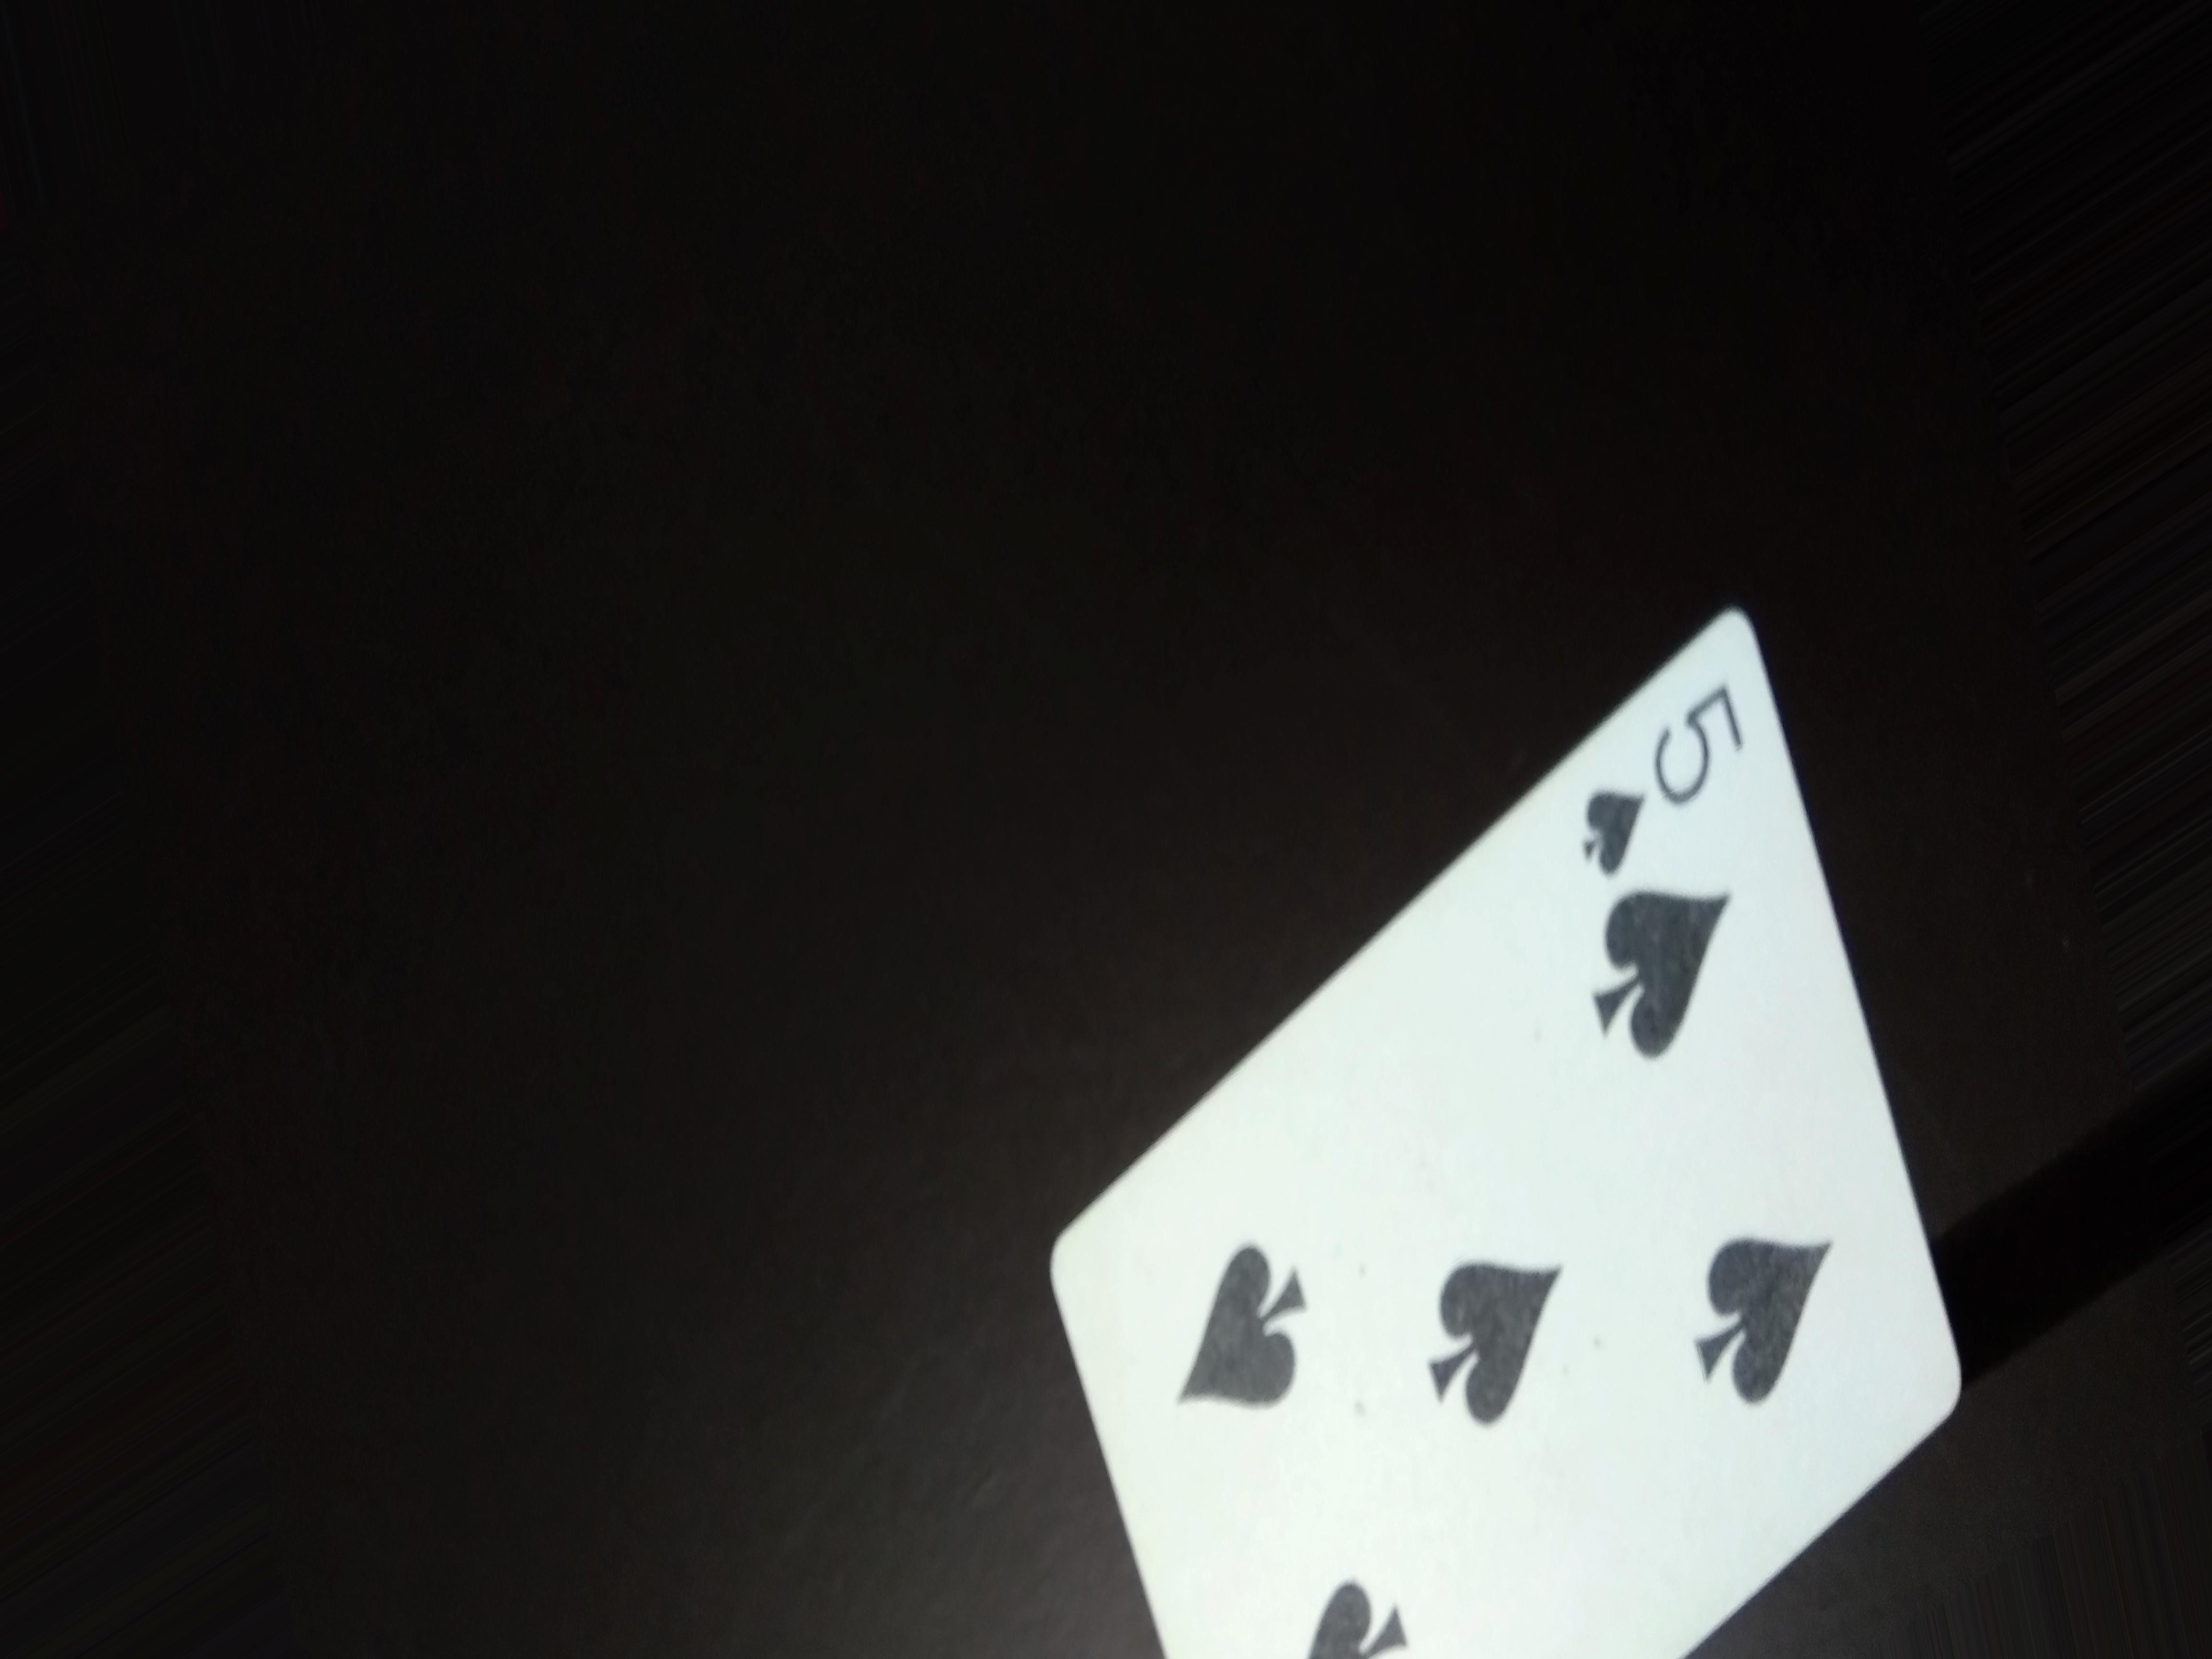5S: (1564, 664, 1750, 889)
